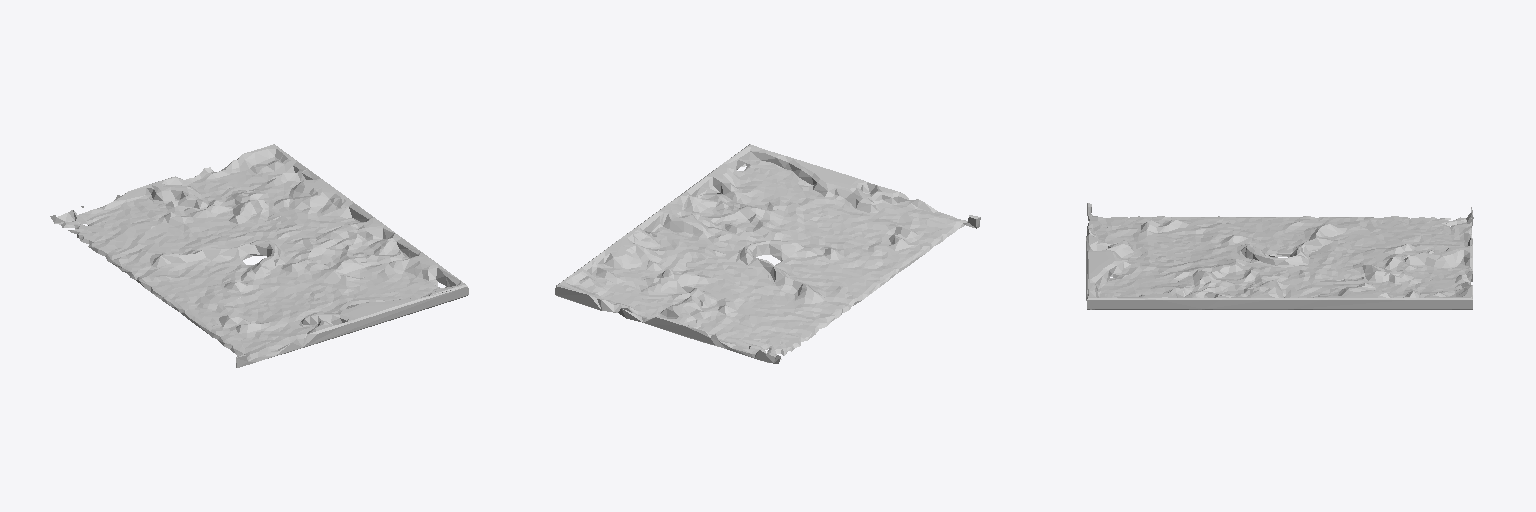
The picture shows the model from 3 angles: view 1: azimuth 30°, elevation 25°; view 2: azimuth 150°, elevation 25°; view 3: azimuth 270°, elevation 25°; orthographic projection.
Visible parts, largest first — view 1: Liquid_Domain; view 2: Liquid_Domain; view 3: Liquid_Domain.
Part boxes in pixels (left/top/right/bottom): Liquid_Domain: left=50, top=144, right=468, bottom=367; Liquid_Domain: left=555, top=144, right=980, bottom=363; Liquid_Domain: left=1086, top=203, right=1473, bottom=309.
Bounding box in the file's own units: 117 × 13.37 × 168.